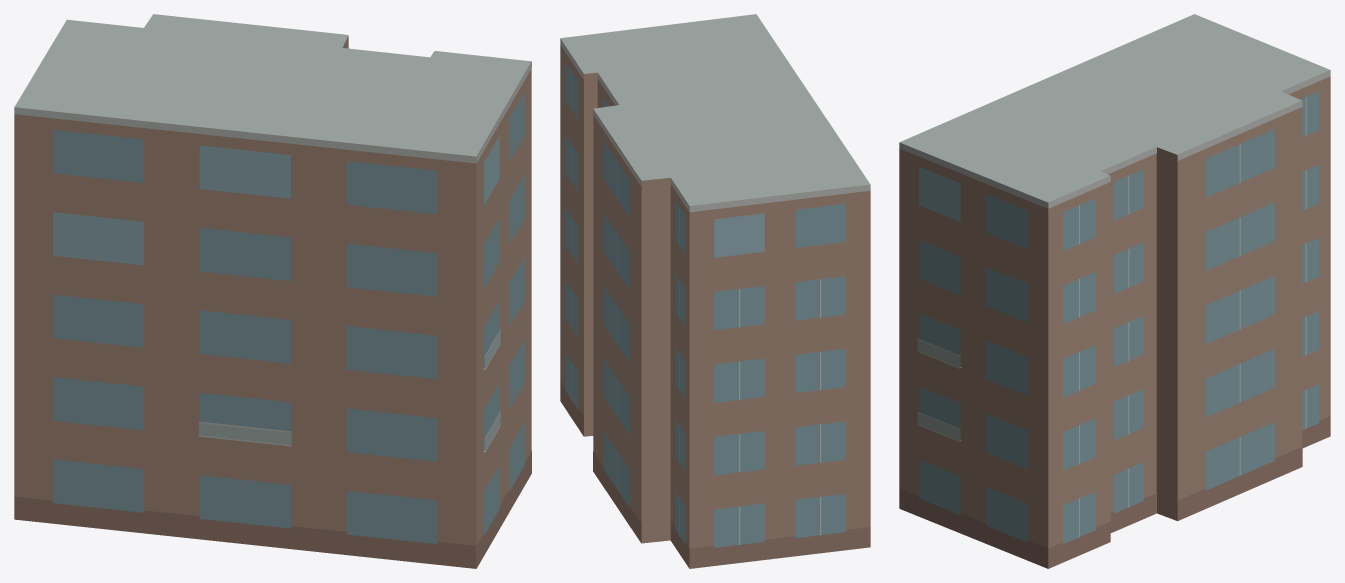
The model's file is survey-upis-32885756.glb.
3 views of the same model, side by side, from view 1: azimuth 30°, elevation 25°; view 2: azimuth 150°, elevation 25°; view 3: azimuth 270°, elevation 25° (orthographic). The views are drawn at different scales.
Visible parts, largest first — view 1: survey-upis-32885756.tmp; view 2: survey-upis-32885756.tmp; view 3: survey-upis-32885756.tmp.
Part boxes in pixels (x1,y1,x2,y2): survey-upis-32885756.tmp: (14,14,531,568); survey-upis-32885756.tmp: (560,14,870,568); survey-upis-32885756.tmp: (899,14,1330,568).
Size of the model in its own units: 15.91 by 14.4 by 15.38.
